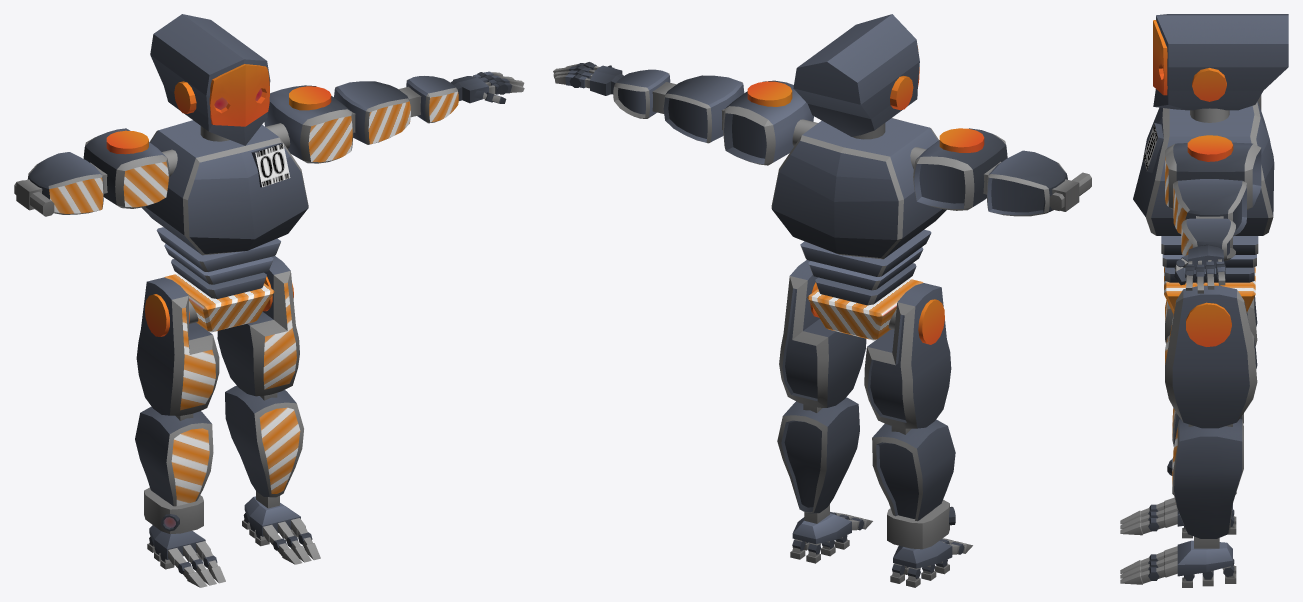
The model's file is Robot.fbx.
The picture shows the model from 3 angles, left to right: view 1: azimuth 30°, elevation 25°; view 2: azimuth 150°, elevation 25°; view 3: azimuth 270°, elevation 25°; orthographic projection. The views are drawn at different scales.
Parts seen in each view (by area): view 1: Robot; view 2: Robot; view 3: Robot.
Part boxes in pixels (bbox=[...]): Robot: bbox=[14, 14, 524, 587]; Robot: bbox=[553, 14, 1091, 587]; Robot: bbox=[1120, 14, 1288, 587].
Bounding box in the file's own units: 240 × 232 × 65.81.
